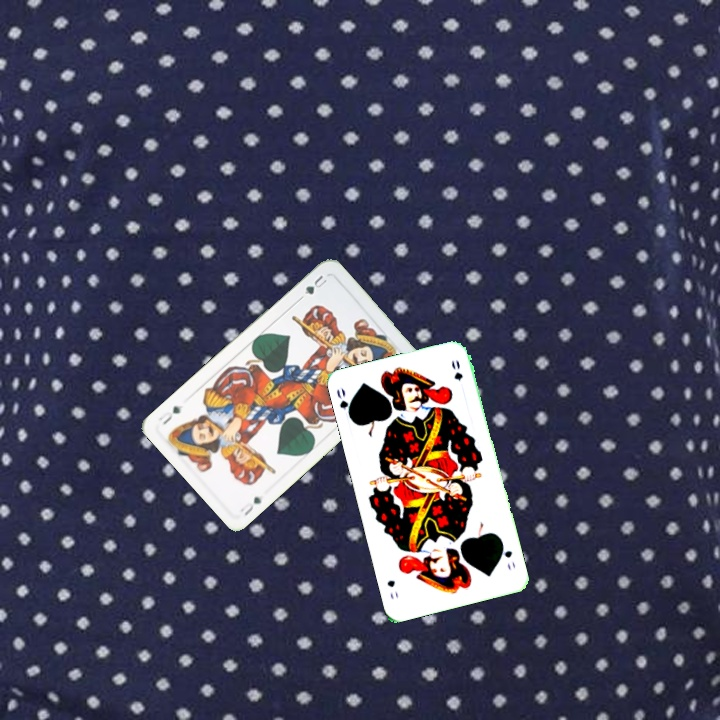GO: (332, 384, 355, 423), (497, 537, 518, 573)
GU: (300, 271, 330, 297), (236, 492, 265, 518)
